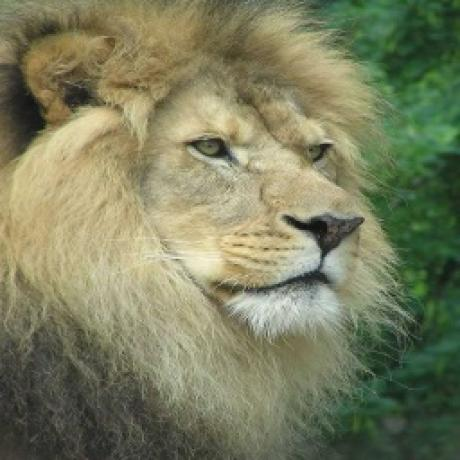Lion: (0, 0, 410, 460)
